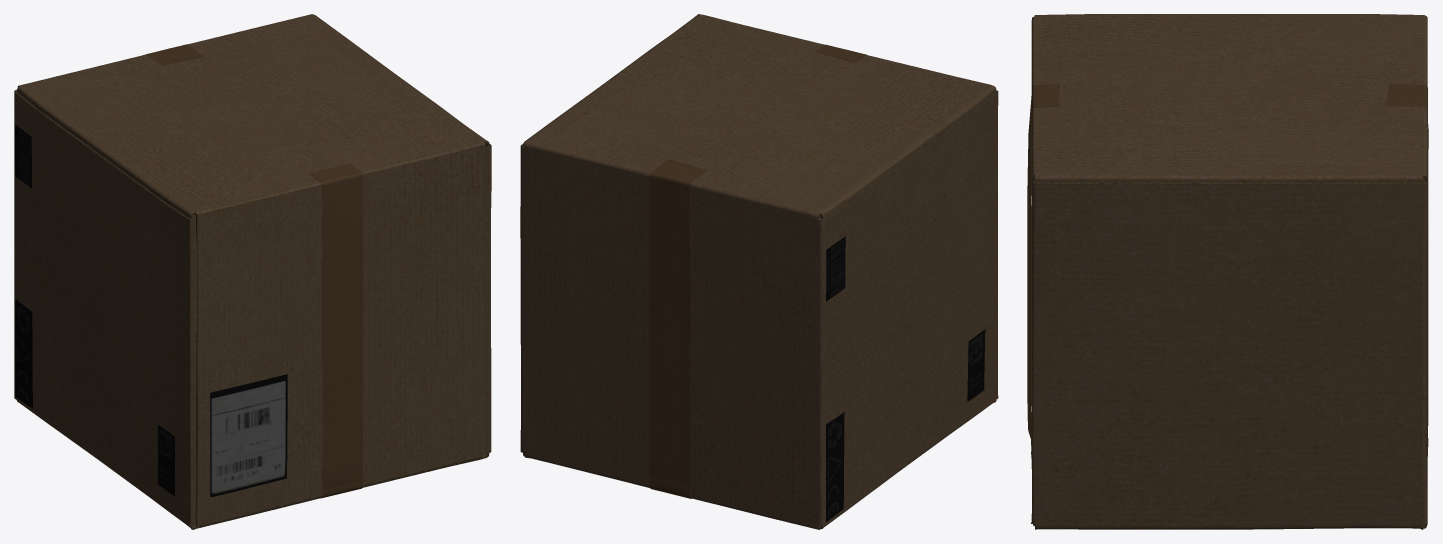
File: custom_attributes.glb
3 views of the same model, side by side, from view 1: azimuth 30°, elevation 25°; view 2: azimuth 150°, elevation 25°; view 3: azimuth 270°, elevation 25° (orthographic). The views are drawn at different scales.
Visible parts, largest first — view 1: M_CubeBox_A01_Body, SM_CubeBox_A02_Scotch_01, SM_CubeBox_A02_Decal_01, M_CubeBox_A01_Details; view 2: M_CubeBox_A01_Body, SM_CubeBox_A02_Scotch_01, SM_CubeBox_A02_Decal_01; view 3: M_CubeBox_A01_Body, SM_CubeBox_A02_Scotch_01, M_CubeBox_A01_Details.
Boxes of the visible parts, left/top/right/bottom form: M_CubeBox_A01_Body: left=14, top=14, right=491, bottom=527; SM_CubeBox_A02_Scotch_01: left=146, top=44, right=362, bottom=498; SM_CubeBox_A02_Decal_01: left=15, top=124, right=287, bottom=497; M_CubeBox_A01_Details: left=14, top=86, right=491, bottom=529; M_CubeBox_A01_Body: left=520, top=14, right=998, bottom=529; SM_CubeBox_A02_Scotch_01: left=649, top=44, right=866, bottom=498; SM_CubeBox_A02_Decal_01: left=826, top=236, right=985, bottom=522; M_CubeBox_A01_Body: left=1031, top=14, right=1427, bottom=529; SM_CubeBox_A02_Scotch_01: left=1027, top=84, right=1428, bottom=458; M_CubeBox_A01_Details: left=1031, top=174, right=1427, bottom=529.
Size of the model in its own units: 0.1572 by 0.1562 by 0.1587.
Materials: 2 (2 with a texture image).
